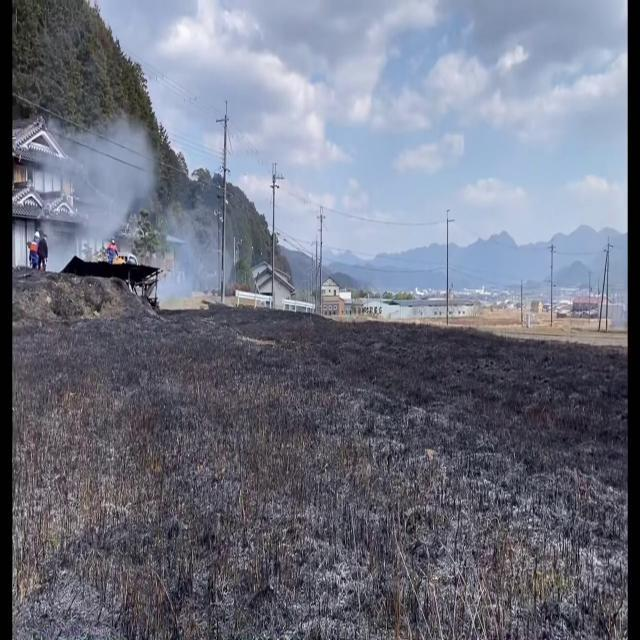Smoke: (53, 104, 163, 253), (156, 174, 238, 308)
